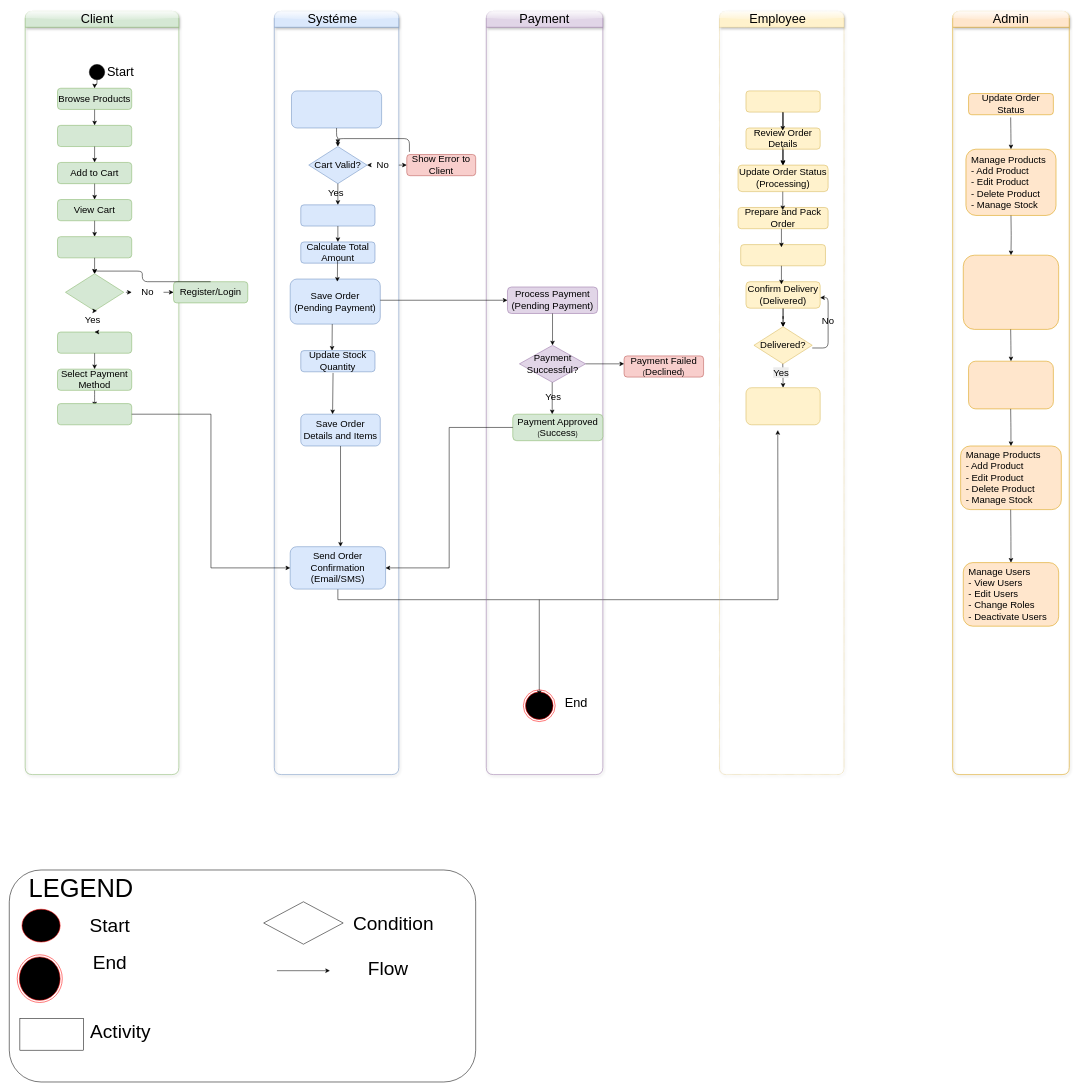
Image size: 1082x1091. Some labels were removed from this diagram. The shapes that lost their labels are listed below. From the top down, each one's centre as x and y in pixels, then its label:
point (336, 109): Validate Cart (items, stock, price)
point (782, 101): View Assigned Orders
point (94, 136): View Product Details
point (337, 215): Create Order
point (94, 247): Proceed to Checkout
point (782, 255): Ship Order (Shipped)
point (94, 292): Logged In?
point (1011, 292): Manage Categories - Add Category - Edit Category - Delete Category
point (94, 342): Enter Shipping Address
point (1010, 385): M anage Orders - View All Orders - Update Order Status
point (94, 414): Place Order
point (782, 406): Update Order Status ( Completed )
